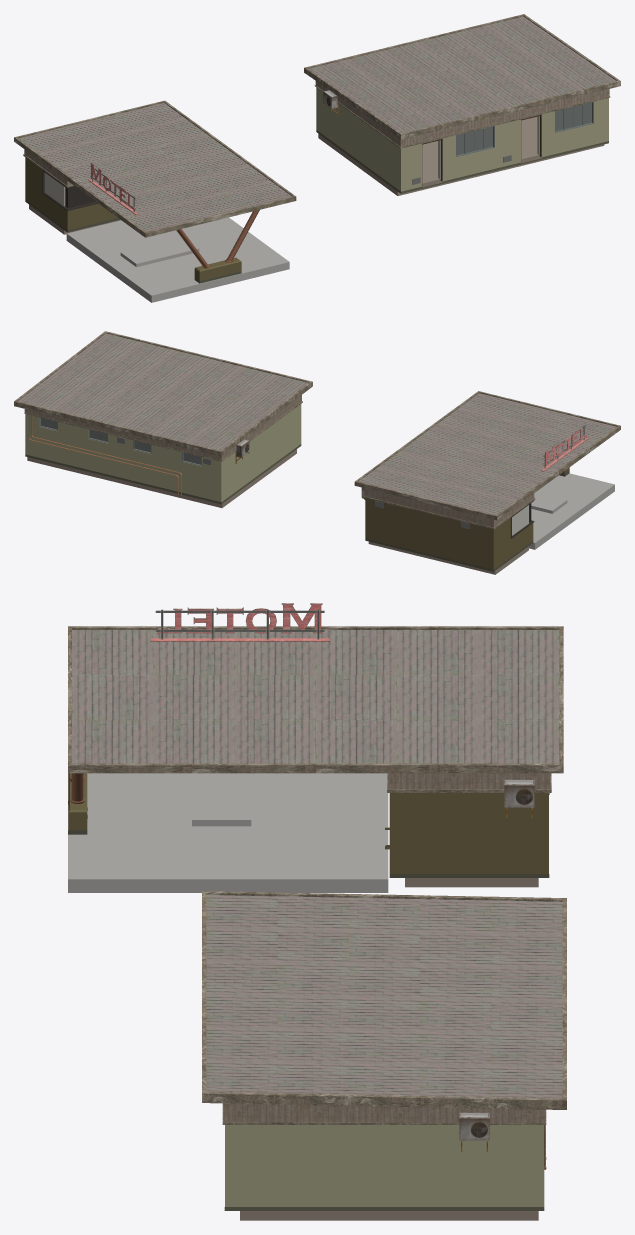
Rendered from modular-motel.access-v18.lod0.glb.
3 views of the same model, one above another, from view 1: azimuth 30°, elevation 25°; view 2: azimuth 150°, elevation 25°; view 3: azimuth 270°, elevation 25° (orthographic). The views are drawn at different scales.
Parts seen in each view (by area): view 1: ReceptionCabinRoof_atlasMaterial01_0, ReceptionCabinWindow_ReceptionCabinWindows_0, motelSign_motelSign_0; view 2: ReceptionCabinRoof_atlasMaterial01_0, ReceptionCabinWindow_ReceptionCabinWindows_0, motelSign_motelSign_0, rustyPipe_rusty.001_0; view 3: ReceptionCabinRoof_atlasMaterial01_0, ReceptionCabinWindow_ReceptionCabinWindows_0, motelSign_motelSign_0, airconditioning.Low.011_air conditioning.004_0.
Part boxes in pixels (<box>): ReceptionCabinRoof_atlasMaterial01_0: <box>14,14,620,237</box>; ReceptionCabinWindow_ReceptionCabinWindows_0: <box>25,87,608,302</box>; motelSign_motelSign_0: <box>88,162,138,215</box>; ReceptionCabinRoof_atlasMaterial01_0: <box>14,331,620,529</box>; ReceptionCabinWindow_ReceptionCabinWindows_0: <box>25,404,614,574</box>; motelSign_motelSign_0: <box>541,425,588,471</box>; rustyPipe_rusty.001_0: <box>29,415,181,495</box>; ReceptionCabinRoof_atlasMaterial01_0: <box>68,626,566,1124</box>; ReceptionCabinWindow_ReceptionCabinWindows_0: <box>68,773,549,1220</box>; motelSign_motelSign_0: <box>150,603,329,641</box>; airconditioning.Low.011_air conditioning.004_0: <box>459,779,534,1151</box>.
Size of the model in its own units: 24.49 by 4.07 by 10.94.
6 materials, 5 textured.
